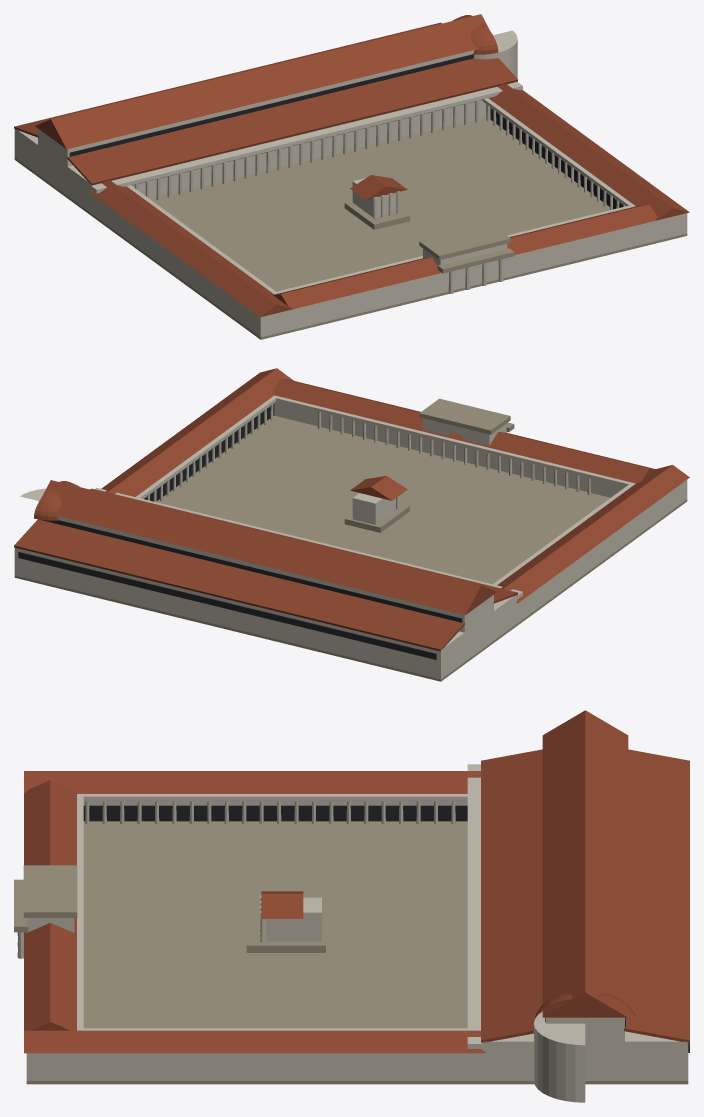
File: roman_forum_basilica.glb
The picture shows the model from 3 angles, top to bottom: view 1: azimuth 30°, elevation 25°; view 2: azimuth 150°, elevation 25°; view 3: azimuth 270°, elevation 25°; orthographic projection. The views are drawn at different scales.
Parts seen in each view (by area): view 1: roman_forum_basilica; view 2: roman_forum_basilica; view 3: roman_forum_basilica.
Part boxes in pixels (x1,y1,x2,y2): roman_forum_basilica: [14, 14, 689, 339]; roman_forum_basilica: [14, 368, 689, 681]; roman_forum_basilica: [14, 710, 689, 1102].
Size of the model in its own units: 181 by 25.9 by 171.
